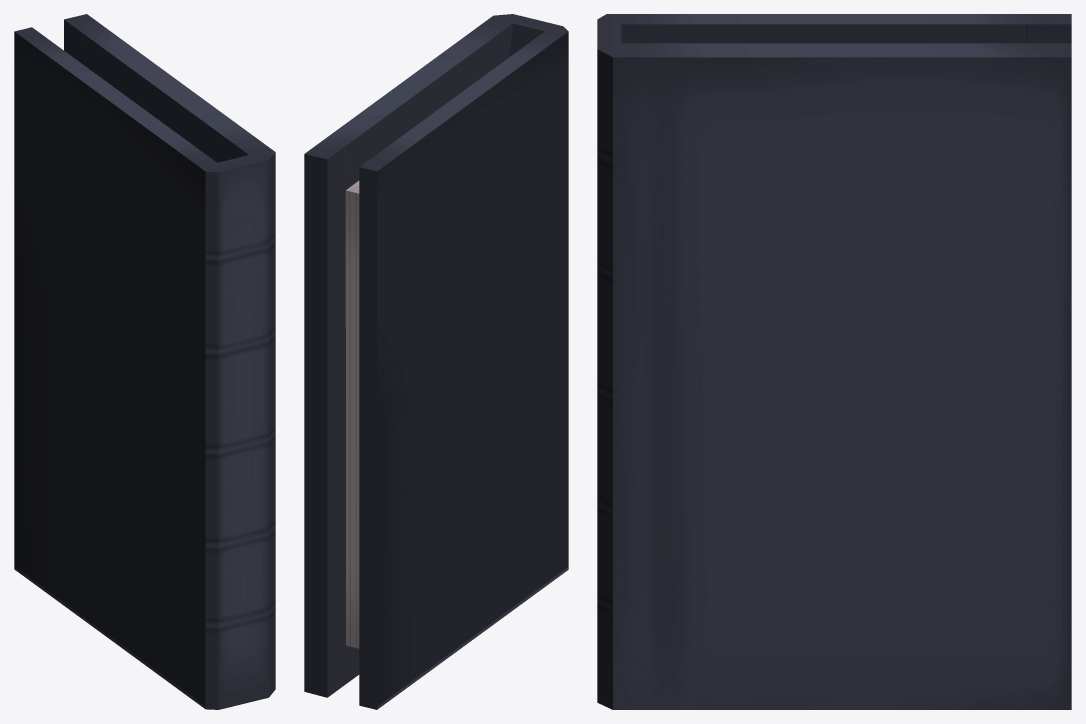
Rendered from Singlebook2.fbx.
3 renders of one model, left to right at view 1: azimuth 30°, elevation 25°; view 2: azimuth 150°, elevation 25°; view 3: azimuth 270°, elevation 25°, orthographic. The views are drawn at different scales.
Parts seen in each view (by area): view 1: pCube1; view 2: pCube1; view 3: pCube1.
Boxes of the visible parts, x1=… form: pCube1: x1=14, y1=14, x2=275, y2=709; pCube1: x1=304, y1=14, x2=568, y2=709; pCube1: x1=597, y1=14, x2=1071, y2=709.
Size of the model in its own units: 0.6619 by 4.68 by 3.08.
1 material, 1 textured.
